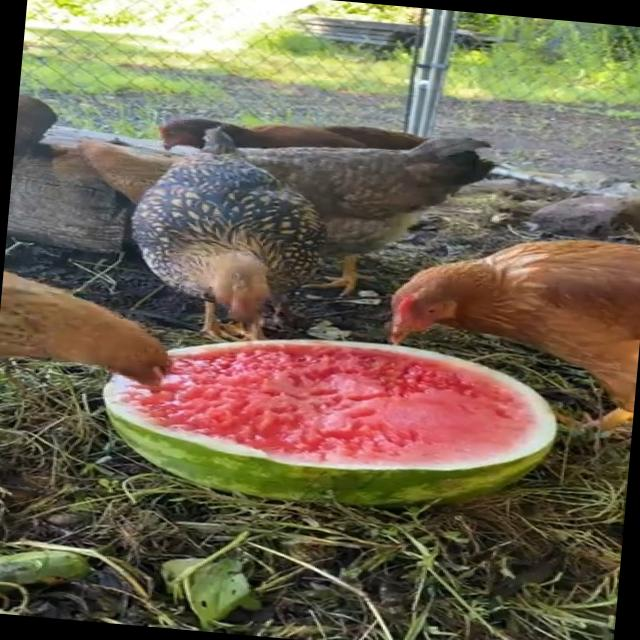feeding: (73, 119, 371, 349), (347, 211, 640, 435), (0, 268, 145, 362)
